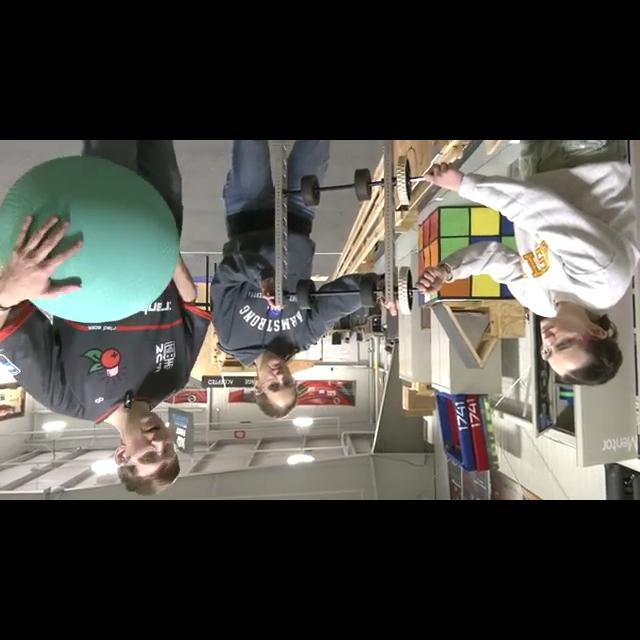ALGAE: (1, 154, 181, 326)
